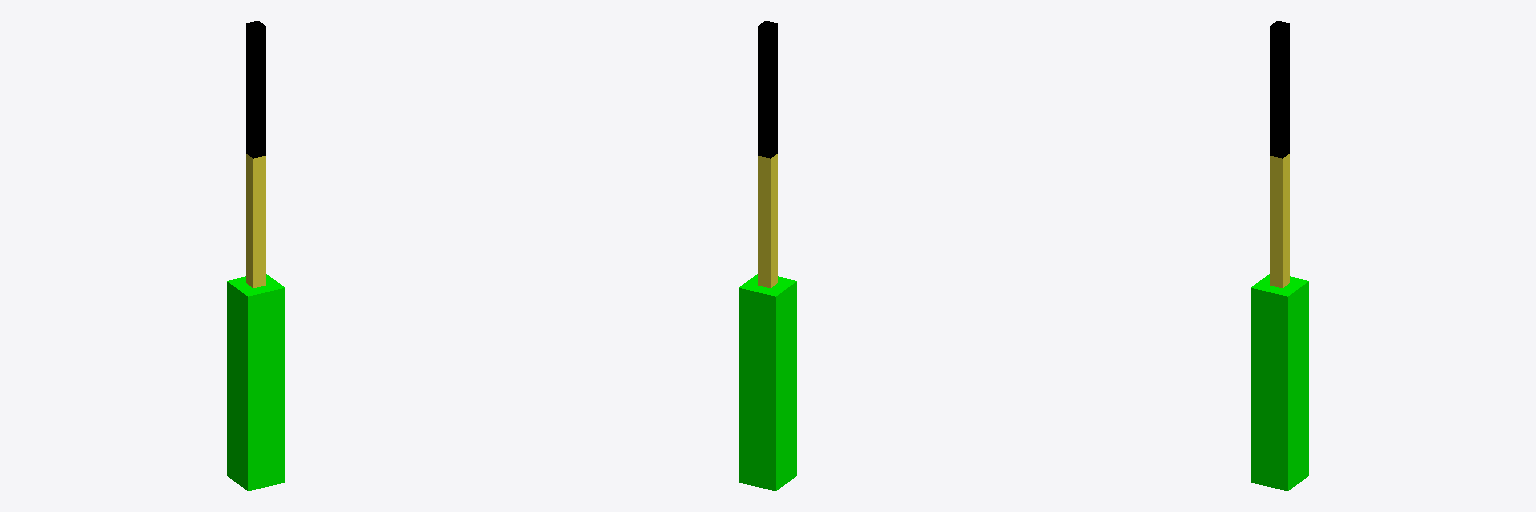
robot.urdf — 3dof:
<?xml version="1.0" ?>
<robot name="3dof" >

<link name="tool0"/>

<link name="base_link" />

<link name="link_1">
  <visual>
    <origin xyz="0 0 0.75" rpy="0 0 0"/>
    <geometry>
      <box size="0.3 0.3 1.5"/>
    </geometry>
        <material name="red">
        <color rgba="0.0 1.0 0.0 1.0"/>
        </material>
    </visual>
</link>

<link name="link_2">
  <visual>
    <origin xyz="0 0 0.5" rpy="0 0 0"/>
    <geometry>
      <box size="0.1 0.1 1.0"/>
    </geometry>
  </visual>
</link>

<link name="link_3">
  <visual>
    <origin xyz="0 0 0.5" rpy="0 0 0"/>
    <geometry>
      <box size="0.1 0.1 1.0"/>
    </geometry>
    
            <material name="red">
        <color rgba="0.0 0.0 0.0 1.0"/>
        </material>
    
  </visual>
</link>


  <joint name="joint_1" type="revolute">
    <parent link="base_link" />
    <child link="link_1" />
    <limit effort="30" velocity="1.0" lower="-3.14" upper="3.14" />
    <origin xyz="0 0 0" rpy="0 0 0" />
    <axis xyz="0 0 1" />
  </joint>
	
  <joint name="joint_2" type="revolute">
    <parent link="link_1" />
    <child link="link_2" />
    <limit effort="30" velocity="1.0" lower="-3.14" upper="3.14" />
    <origin xyz="0 0 1.5" rpy="0 0 0" />
    <axis xyz="0 1 0" />
  </joint>

  <joint name="joint_3" type="revolute">
    <parent link="link_2" />
    <child link="link_3" />
    <limit effort="30" velocity="1.0" lower="-3.14" upper="3.14" />
    <origin xyz="0 0 1" rpy="0 0 0" />
    <axis xyz="0 1 0" />
  </joint>


<joint name="joint_3-tool0" type="revolute">
    <parent link="link_3" />
    <child link="tool0" />
    <limit effort="30" velocity="1.0" lower="-6.28318" upper="6.28318" />
    <origin xyz="0 0 1.0" rpy="0 0 0" />
    <axis xyz="0 0 1" />
  </joint>

</robot>

--- Render facts (derived) ---
3 views of the same robot in one strip: view 1: azimuth 30°, elevation 25°; view 2: azimuth 150°, elevation 25°; view 3: azimuth 330°, elevation 25° (orthographic).
Robot: 3dof — 5 links, 4 joints (4 revolute); root link base_link; default pose: all joints at 0.
Links seen in each view (by area): view 1: link_1, link_3, link_2; view 2: link_1, link_3, link_2; view 3: link_1, link_3, link_2.
Link boxes in pixels (x1=…): link_1: x1=227, y1=274, x2=284, y2=490; link_3: x1=246, y1=21, x2=265, y2=158; link_2: x1=246, y1=154, x2=265, y2=287; link_1: x1=739, y1=274, x2=796, y2=490; link_3: x1=758, y1=21, x2=777, y2=158; link_2: x1=758, y1=154, x2=777, y2=287; link_1: x1=1251, y1=274, x2=1308, y2=490; link_3: x1=1270, y1=21, x2=1289, y2=158; link_2: x1=1270, y1=154, x2=1289, y2=287.
Bounding box of the posed robot: 0.3 × 0.3 × 3.5 m (x, y, z).
Geometry: primitives only (box / cylinder / sphere), no mesh files.